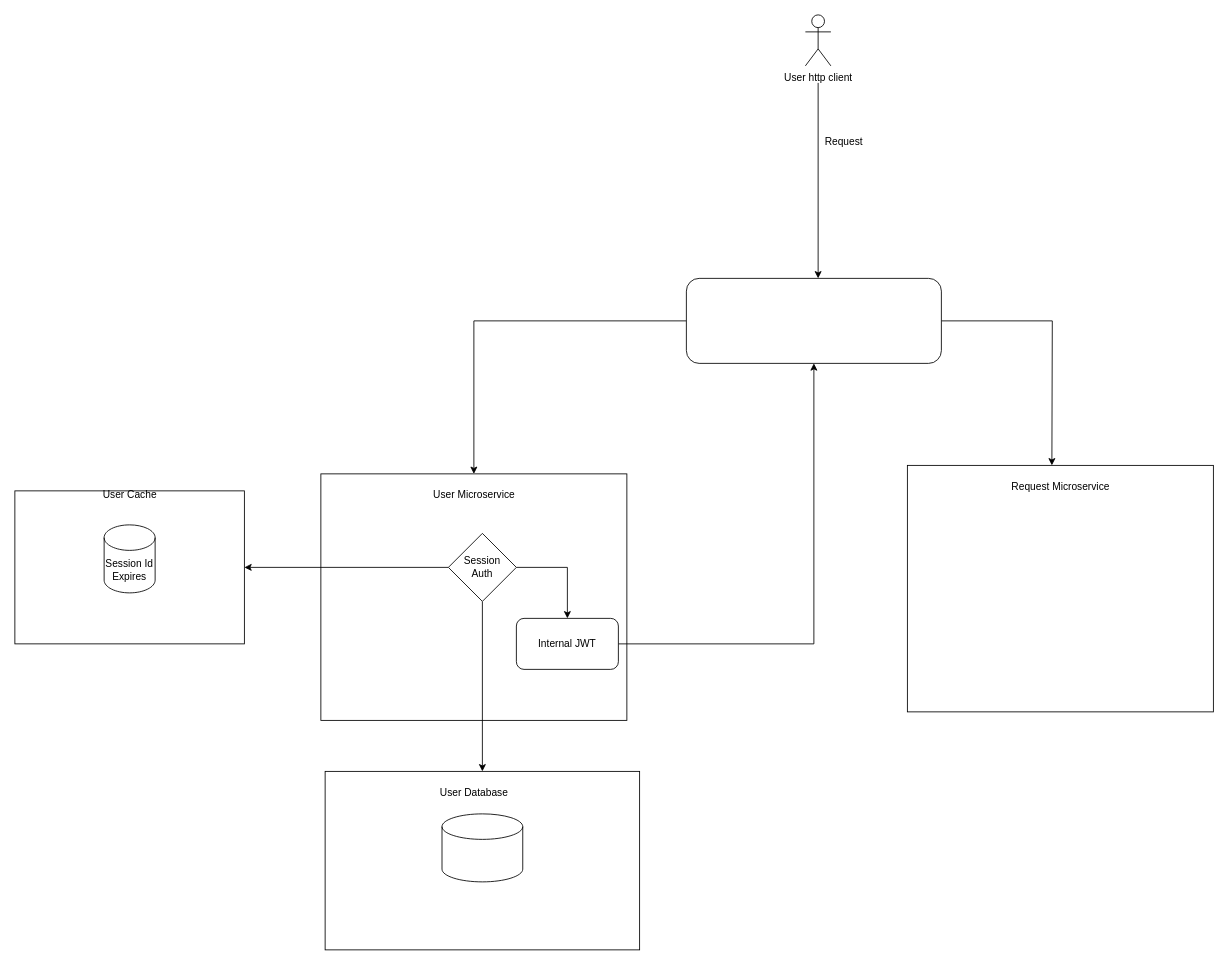
This 1228x965 diagram has some shape labels left out. Each missing label, with the centre of its shape:
"NGINX API-GATEWAY" belongs at (x=813, y=320).
"Username passwordHash" belongs at (x=482, y=847).
